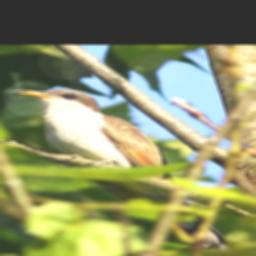Cuckoo: (6, 85, 237, 254)
